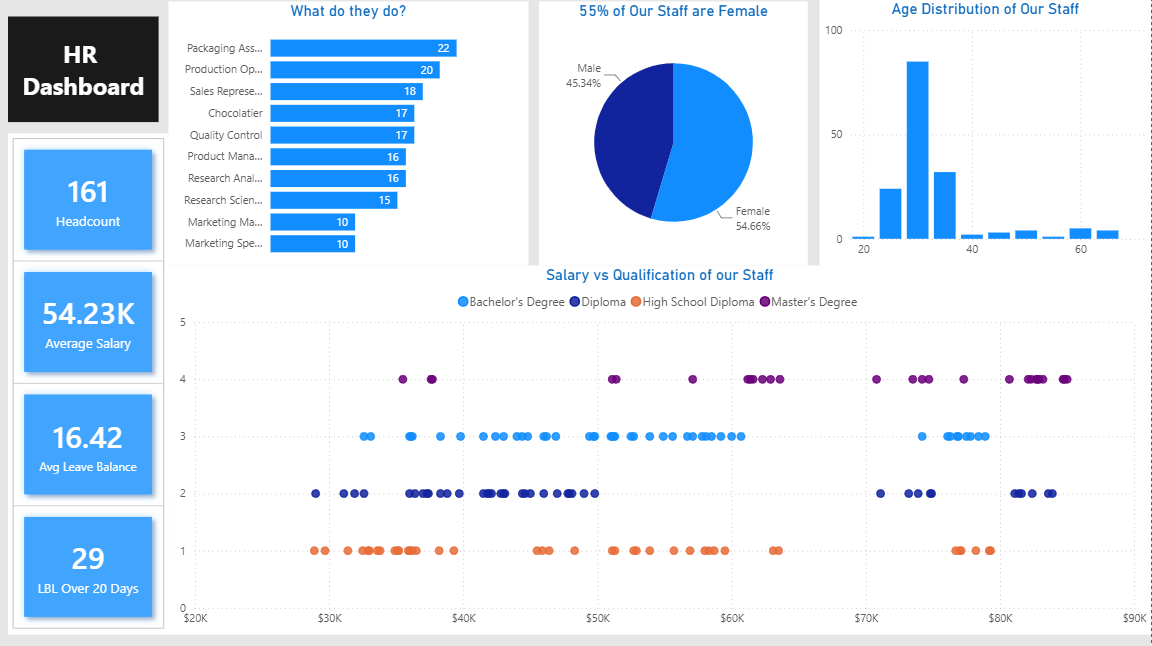

The dashboard page shown, as its layout file describes it:
{"tool":"powerbi","page":{"name":"HR Dasboard","canvas":[1280,720],"ordinal":9},"visuals":[{"type":"cardVisual","fields":{"Data":["Staff.Headcount","Staff.Average Salary","Staff.Avg Leave Balance","Staff.LBL Over 20 Days"]},"box":[10,148.3,178.3,556.7],"z":0},{"type":"clusteredBarChart","title":"What do they do?","fields":{"Category":["Staff.Job Title"],"Y":["Staff.Headcount"]},"box":[188.3,1.7,400,293.3],"z":1000},{"type":"pieChart","title":"55% of Our Staff are Female","fields":{"Category":["Staff.Gender"],"Y":["Staff.Headcount"]},"box":[600,1.7,298.3,293.3],"z":2000},{"type":"columnChart","title":"Age Distribution of Our Staff","fields":{"Y":["Staff.Headcount"],"Category":["Staff.Age (bins)"]},"box":[911.7,0,368.3,295],"z":3000},{"type":"scatterChart","title":"Salary vs Qualification of our Staff","fields":{"X":["Staff.Salary"],"Y":["Qualification.Qualification ID"],"Series":["Staff.Education Qualification"]},"box":[188.3,295,1091.7,410],"z":4000},{"type":"textbox","box":[9.9,18.2,167.3,117.6],"z":5000}]}

Visuals, with their boxes in screenshot pixels (x1, y1, x2, y2), scaled from the page's 1280x720 canvas onto the 1152x646 screenshot:
cardVisual - Staff.Headcount x Staff.Average Salary: select_region(9, 133, 169, 633)
"What do they do?" clusteredBarChart: select_region(169, 2, 529, 265)
"55% of Our Staff are Female" pieChart: select_region(540, 2, 808, 265)
"Age Distribution of Our Staff" columnChart: select_region(821, 0, 1151, 265)
"Salary vs Qualification of our Staff" scatterChart: select_region(169, 265, 1151, 633)
textbox: select_region(9, 16, 159, 122)
